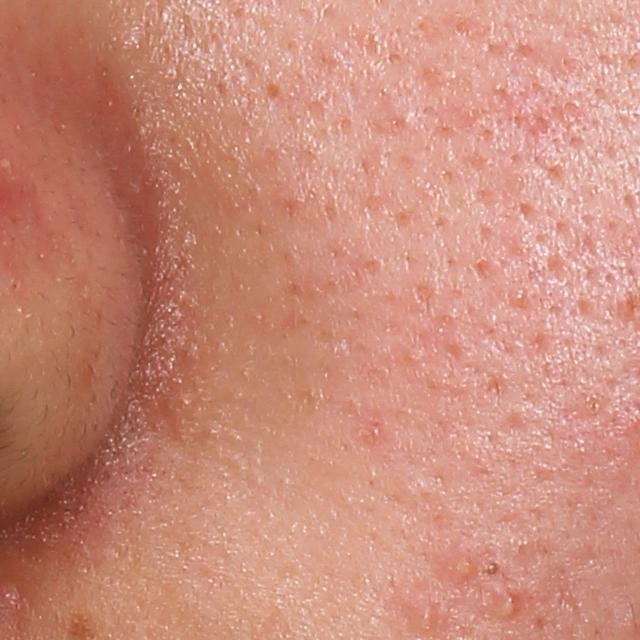comedo: (480, 559, 505, 580)
pustule: (495, 591, 527, 620)
